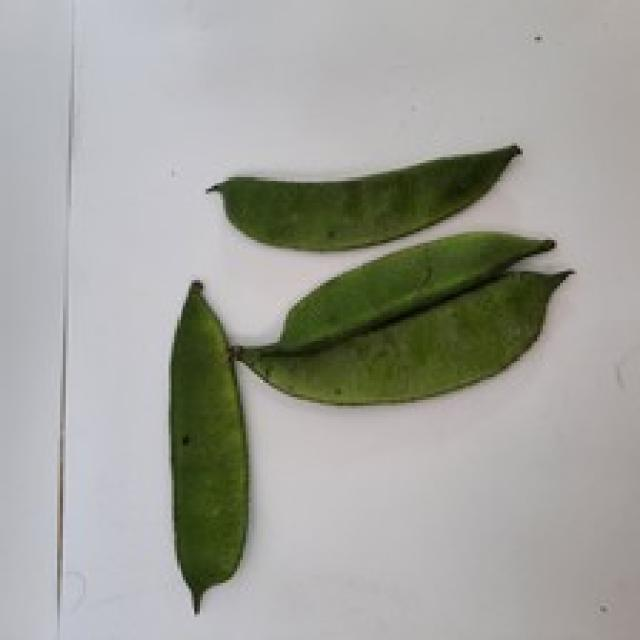Bean: (229, 266, 574, 406), (203, 140, 520, 251), (274, 228, 554, 352), (165, 277, 248, 614)
